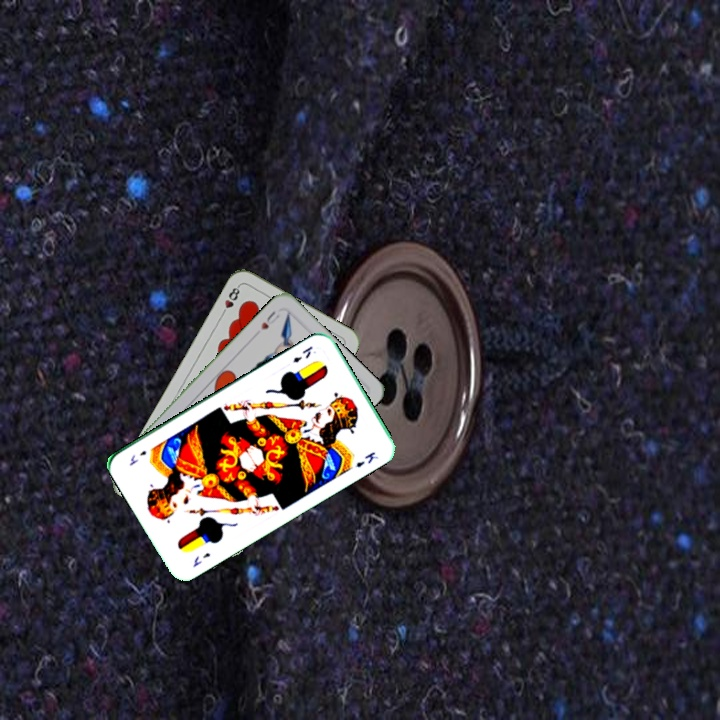EK: (289, 342, 316, 365), (189, 548, 213, 569)
H8: (217, 281, 243, 319)
HU: (257, 307, 282, 333)
